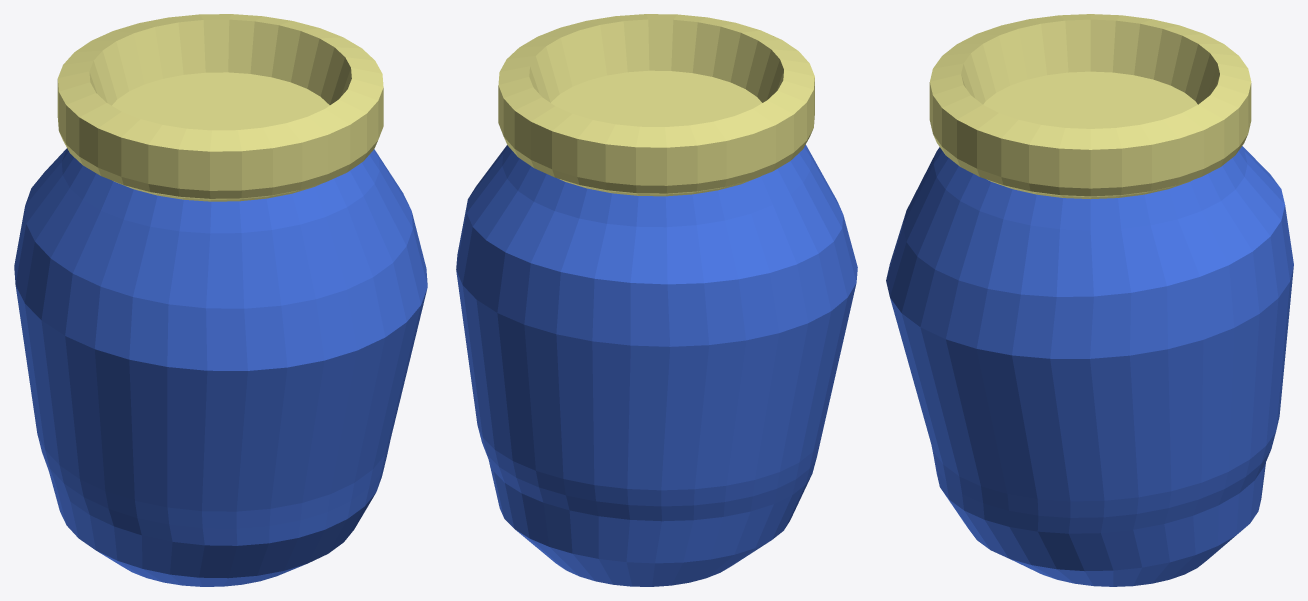
Rendered from coral2.fbx.
3 renders of one model, left to right at view 1: azimuth 30°, elevation 25°; view 2: azimuth 150°, elevation 25°; view 3: azimuth 270°, elevation 25°, orthographic. The views are drawn at different scales.
Visible parts, largest first — view 1: Cylinder; view 2: Cylinder; view 3: Cylinder.
Part boxes in pixels (x1=…): Cylinder: x1=14, y1=14, x2=427, y2=586; Cylinder: x1=456, y1=14, x2=857, y2=586; Cylinder: x1=886, y1=14, x2=1293, y2=586.
Size of the model in its own units: 200 by 261 by 200.
